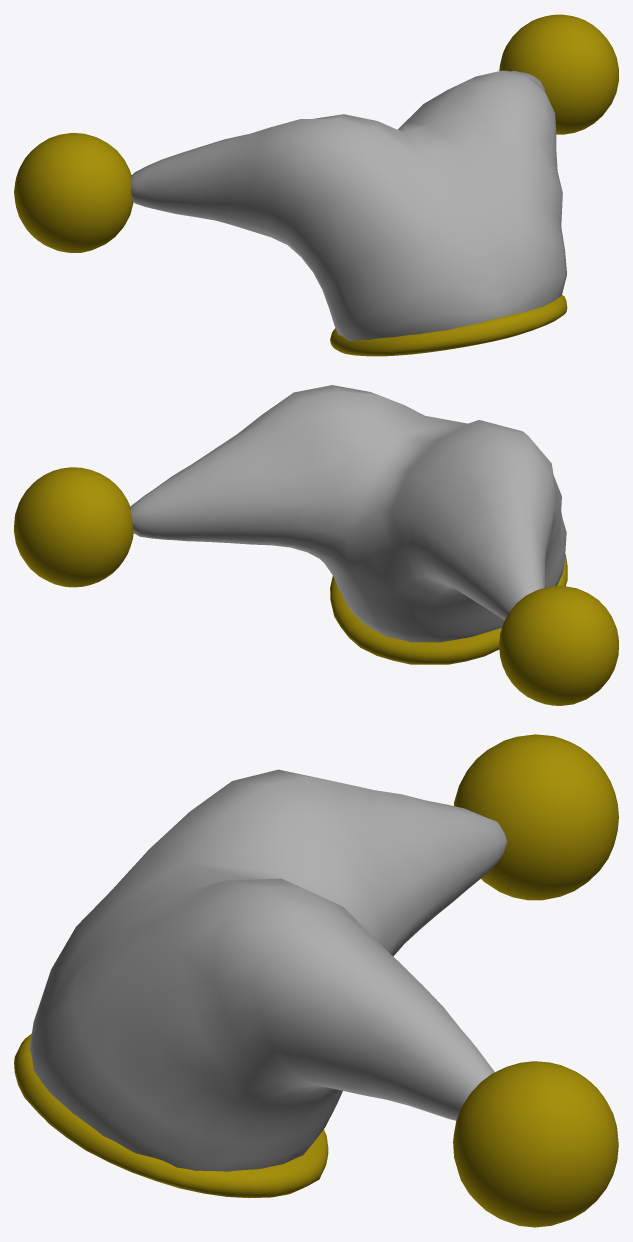
File: Chapeau02.fbx
3 views of the same model, one above another, from view 1: azimuth 30°, elevation 25°; view 2: azimuth 150°, elevation 25°; view 3: azimuth 270°, elevation 25° (orthographic). The views are drawn at different scales.
Parts seen in each view (by area): view 1: Chapeau02; view 2: Chapeau02; view 3: Chapeau02.
Part boxes in pixels (left/top/right/bottom): Chapeau02: left=14, top=14, right=618, bottom=356; Chapeau02: left=14, top=385, right=618, bottom=705; Chapeau02: left=14, top=734, right=618, bottom=1227.
Bounding box in the file's own units: 74.2 × 28.46 × 47.77.
